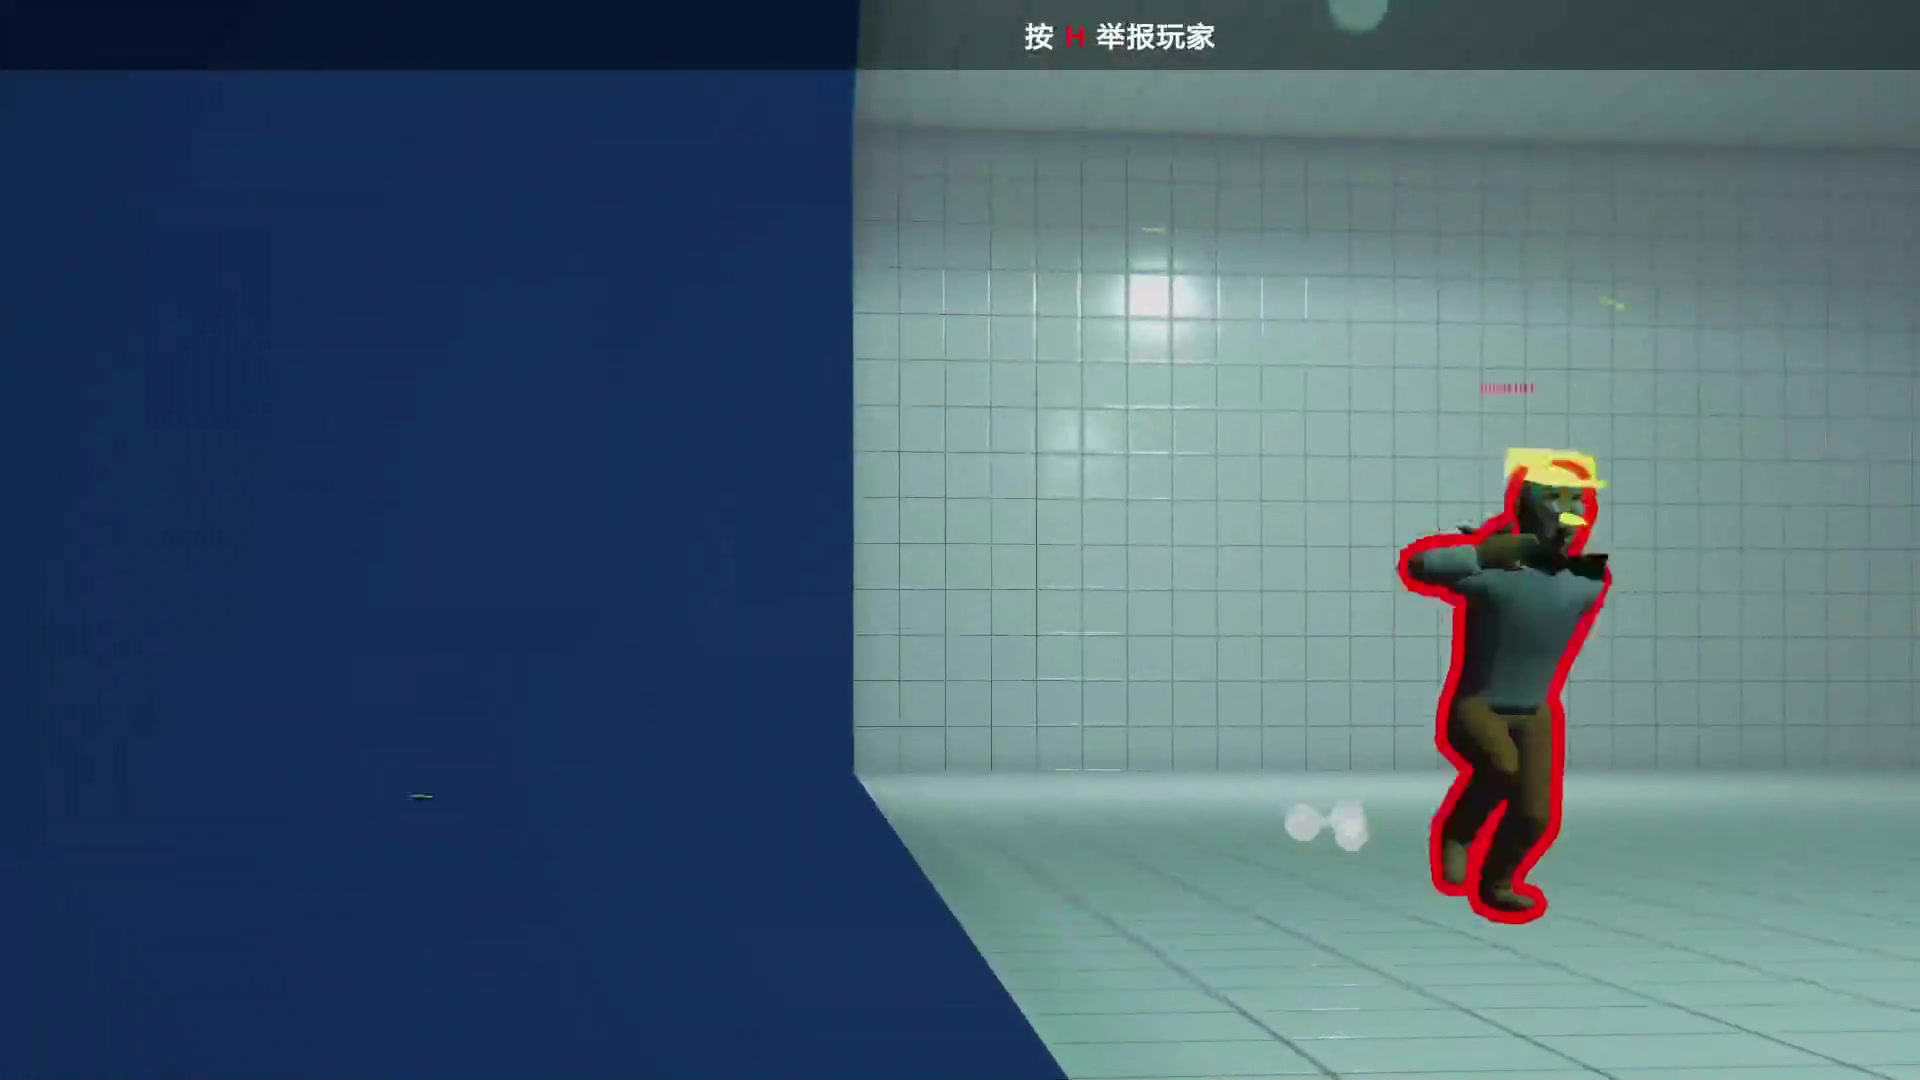human: (1329, 470, 1709, 942)
